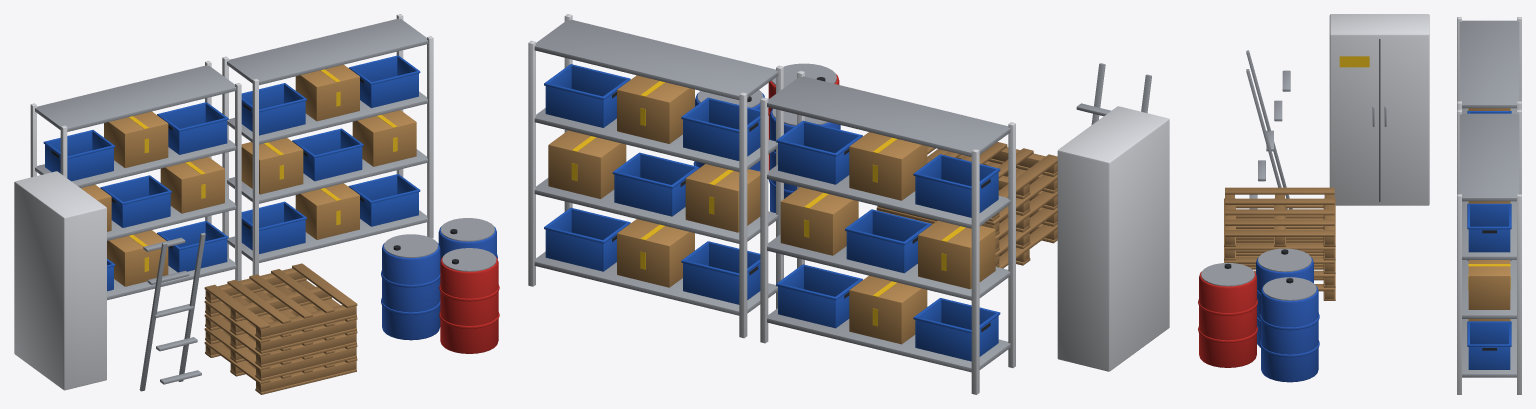
Rendered from Station_MiscStore.fbx.
The picture shows the model from 3 angles, left to right: view 1: azimuth 30°, elevation 25°; view 2: azimuth 150°, elevation 25°; view 3: azimuth 270°, elevation 25°; orthographic projection. The views are drawn at different scales.
Parts seen in each view (by area): view 1: Shelf A, Shelf B, Cabinet, Empty Pallets, Drums, Ladder; view 2: Shelf B, Shelf A, Cabinet, Empty Pallets, Drums, Ladder; view 3: Cabinet, Shelf A, Drums, Empty Pallets, Shelf B, Ladder.
Part boxes in pixels (x1,y1,x2,y2): Shelf A: (222,14,433,275); Shelf B: (30,61,241,300); Cabinet: (14,171,106,390); Empty Pallets: (204,263,357,394); Drums: (381,218,499,353); Ladder: (139,232,205,391); Shelf B: (760,70,1015,394); Shelf A: (528,14,783,338); Cabinet: (1057,106,1169,371); Empty Pallets: (876,142,1057,268); Drums: (693,63,840,212); Ladder: (1076,63,1151,124); Cabinet: (1329,14,1429,205); Shelf A: (1457,109,1521,394); Drums: (1198,248,1319,382); Empty Pallets: (1224,187,1335,300); Shelf B: (1457,17,1521,113); Ladder: (1246,50,1292,209).
Bounding box in the file's own units: 4.98 × 2.2 × 3.24.
